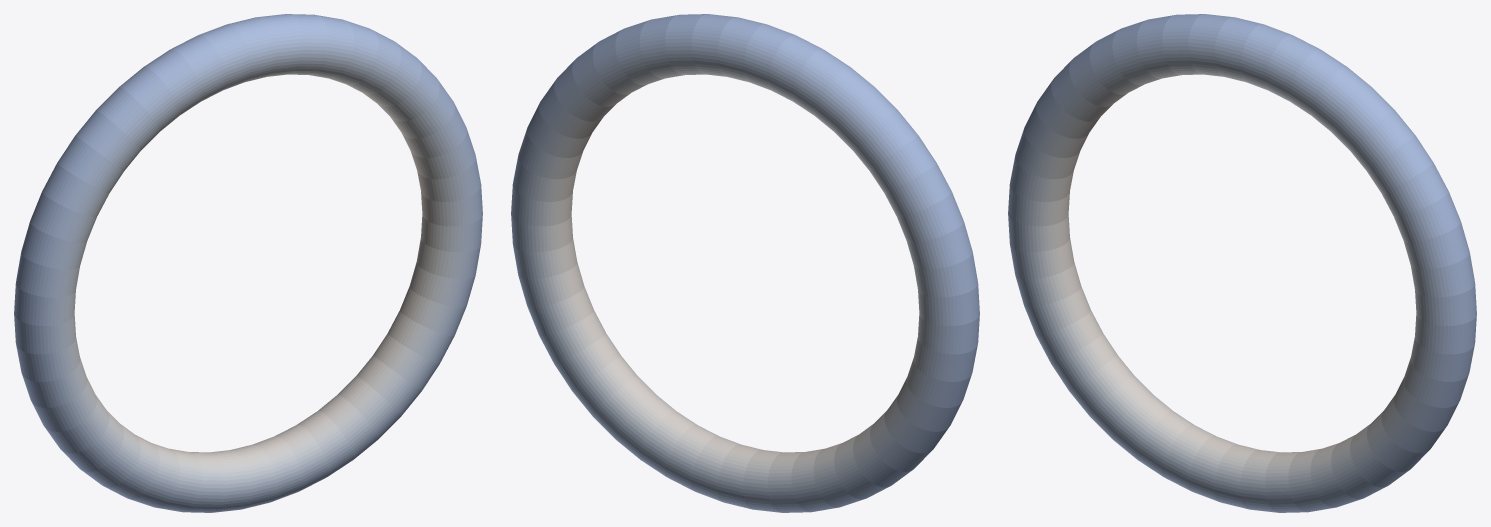
3 renders of one model, left to right at view 1: azimuth 30°, elevation 25°; view 2: azimuth 150°, elevation 25°; view 3: azimuth 330°, elevation 25°, orthographic.
Visible parts, largest first — view 1: world; view 2: world; view 3: world.
Part boxes in pixels (x1,y1,x2,y2): world: (14, 14, 482, 512); world: (511, 14, 979, 512); world: (1008, 14, 1476, 512).
Bounding box in the file's own units: 31.6 × 31.54 × 3.59.
